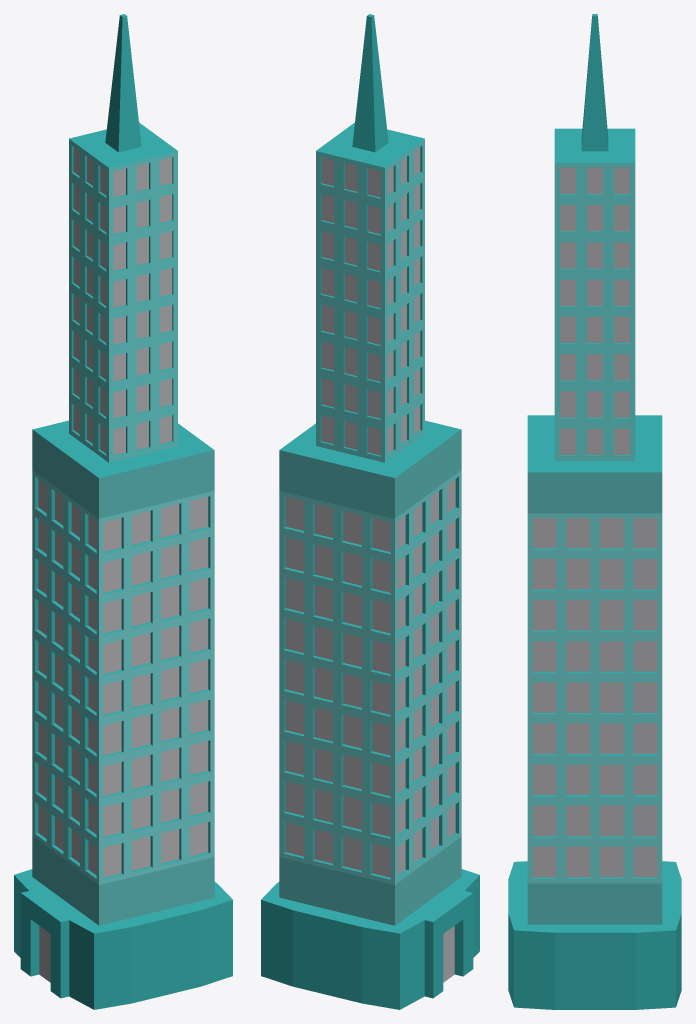
The model's file is skyscraperC.fbx.
3 renders of one model, left to right at view 1: azimuth 30°, elevation 25°; view 2: azimuth 150°, elevation 25°; view 3: azimuth 270°, elevation 25°, orthographic.
Visible parts, largest first — view 1: SkyscraperC; view 2: SkyscraperC; view 3: SkyscraperC.
Part boxes in pixels (x1=…): SkyscraperC: x1=14, y1=14, x2=232, y2=1009; SkyscraperC: x1=261, y1=14, x2=479, y2=1009; SkyscraperC: x1=508, y1=14, x2=681, y2=1009.
Size of the model in its own units: 789 by 4556 by 747.
